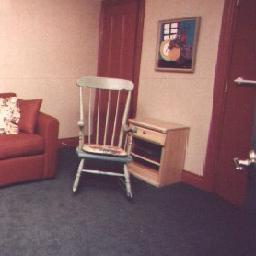Cama: (5, 94, 59, 183)
